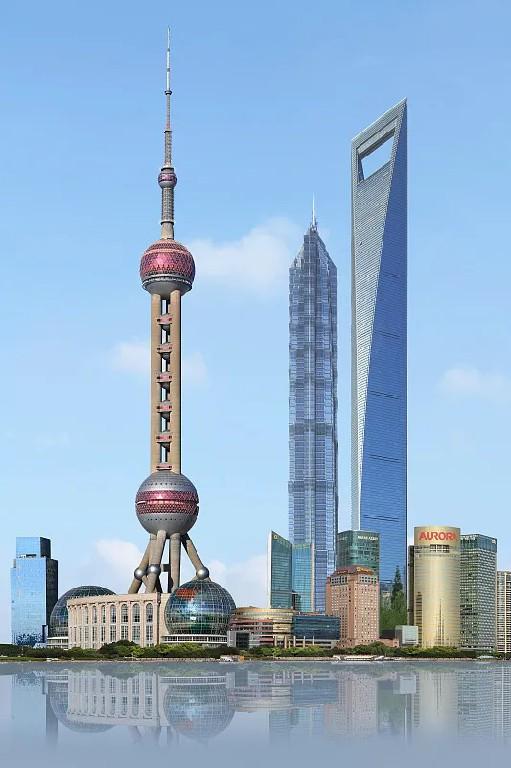Oriental: (128, 25, 209, 594)
